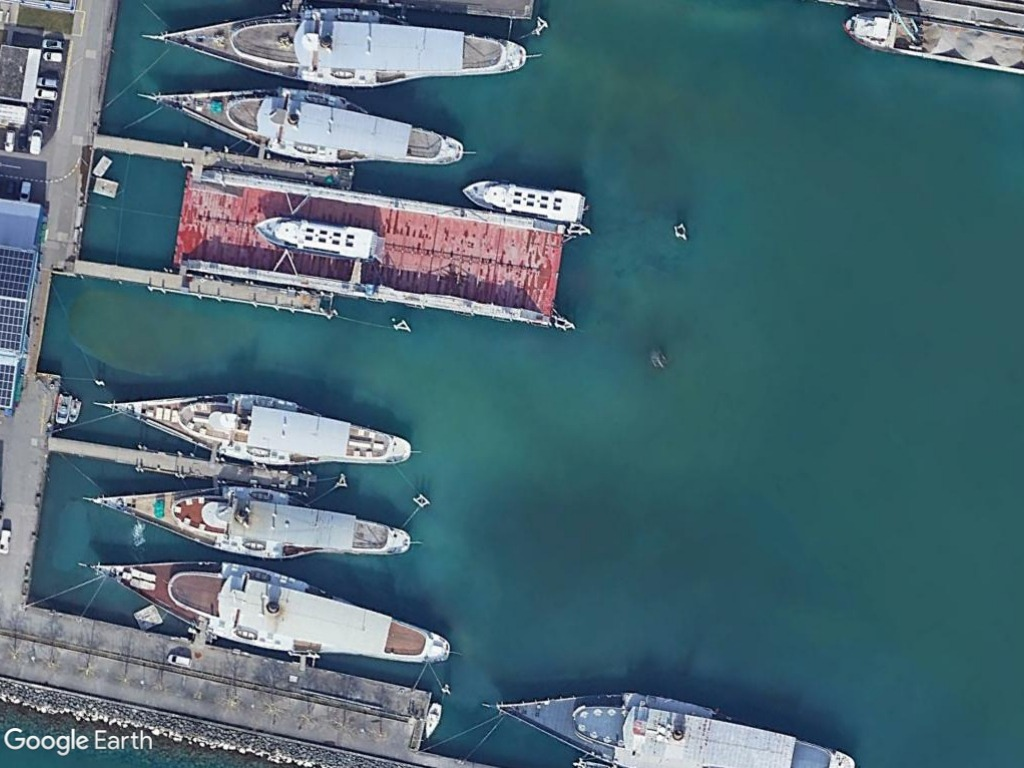boat: (74, 556, 454, 666), (141, 4, 529, 85), (134, 85, 467, 168), (88, 480, 416, 563), (98, 391, 413, 470), (458, 180, 590, 227), (249, 212, 378, 260), (422, 698, 445, 739)
